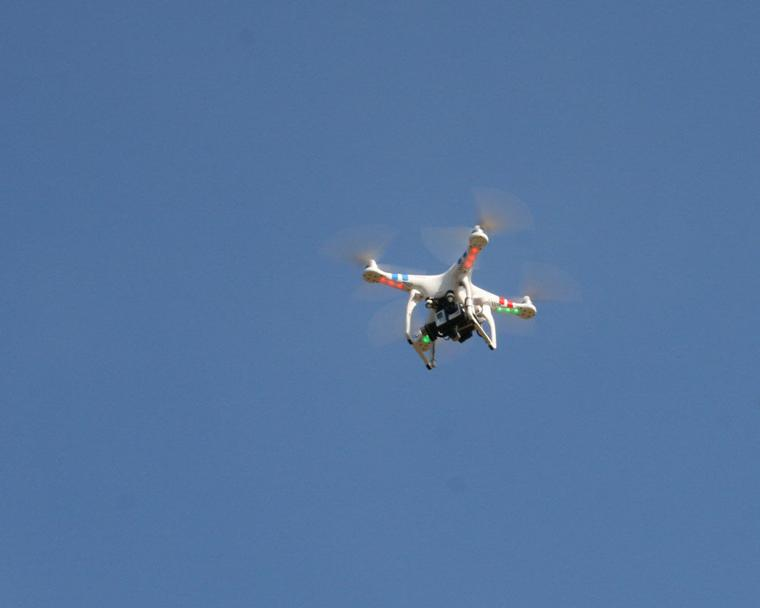drone: (320, 186, 588, 374)
